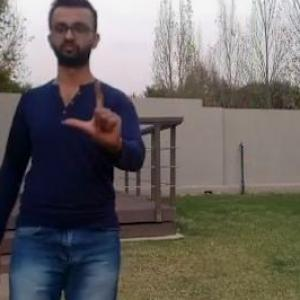land_hand: (69, 79, 135, 158)
